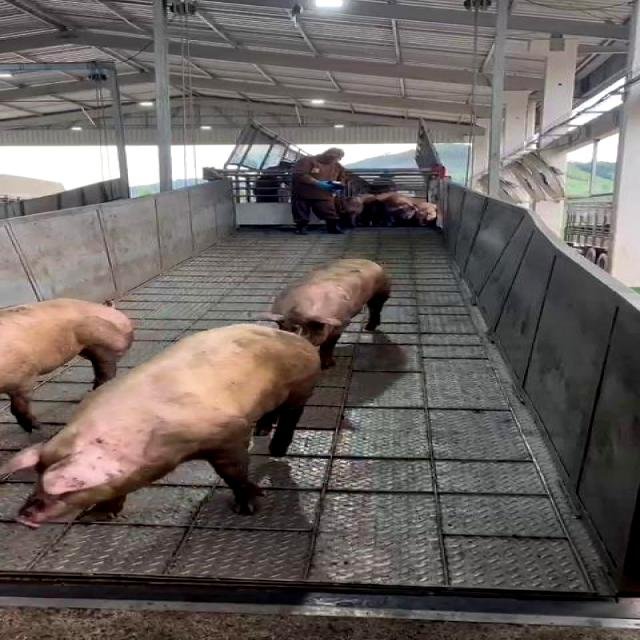pig: (4, 323, 320, 519), (1, 299, 133, 431), (265, 259, 391, 367)
